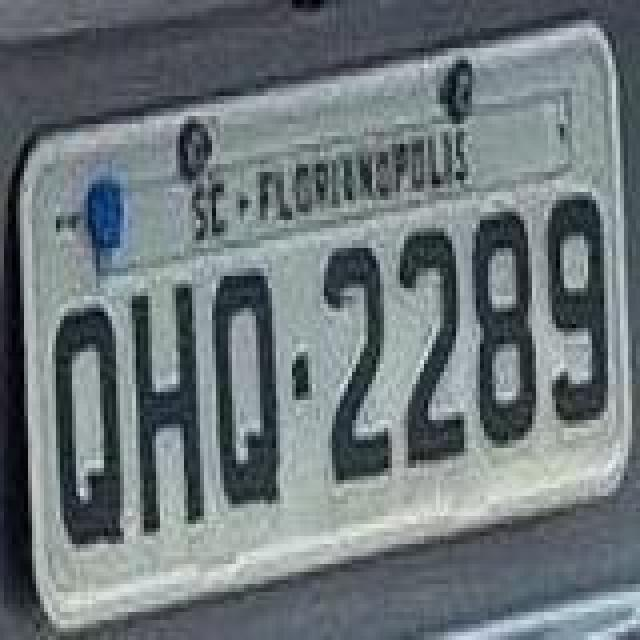2: (320, 244, 392, 484), (396, 230, 468, 466)
8: (468, 208, 540, 448)
9: (546, 194, 614, 430)
H: (130, 276, 206, 540)
Q: (50, 300, 126, 548), (212, 272, 284, 512)
